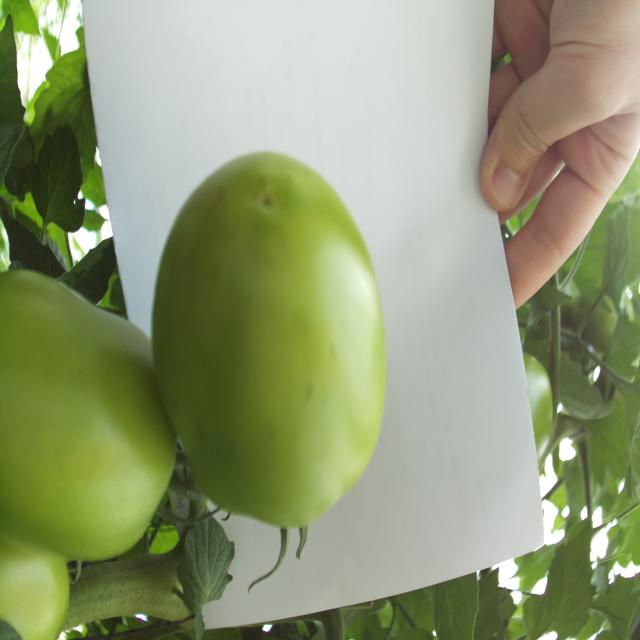unripe tomato: (0, 139, 379, 640)
